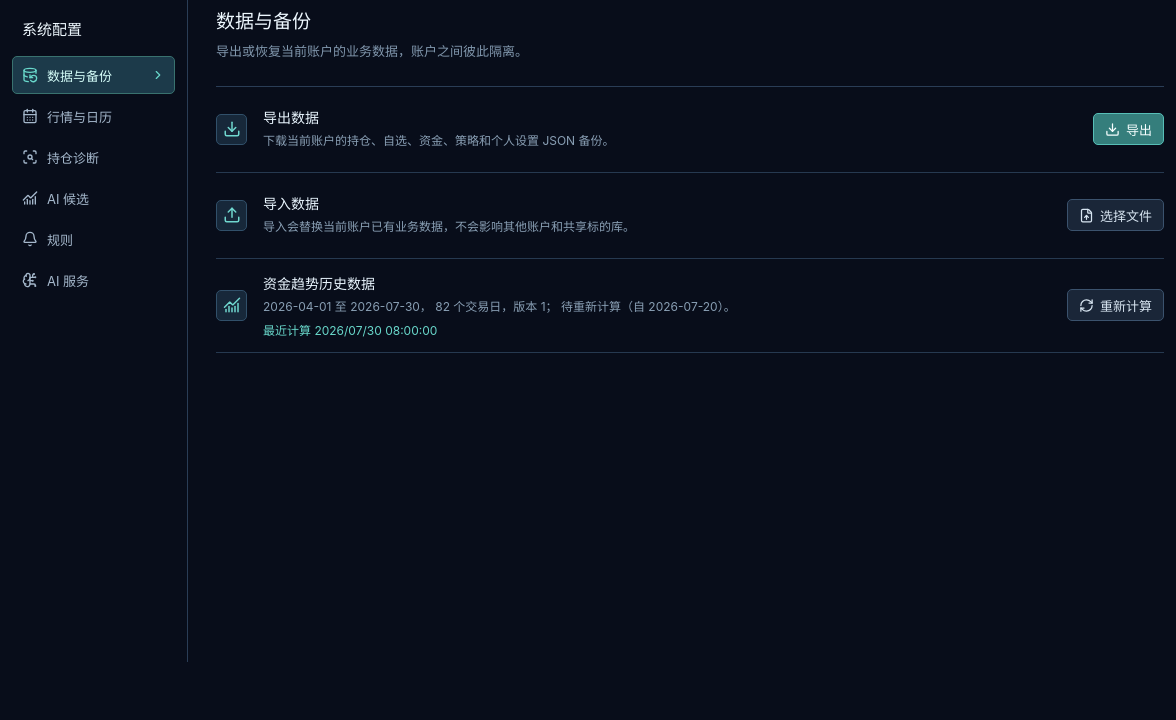
SystemConfigurationView › saves automatic rule scanning settings from the rules section
Click the button with class "system-configuration-nav-item" showing "规则": (94, 239) x1=12 y1=220 x2=175 y2=258
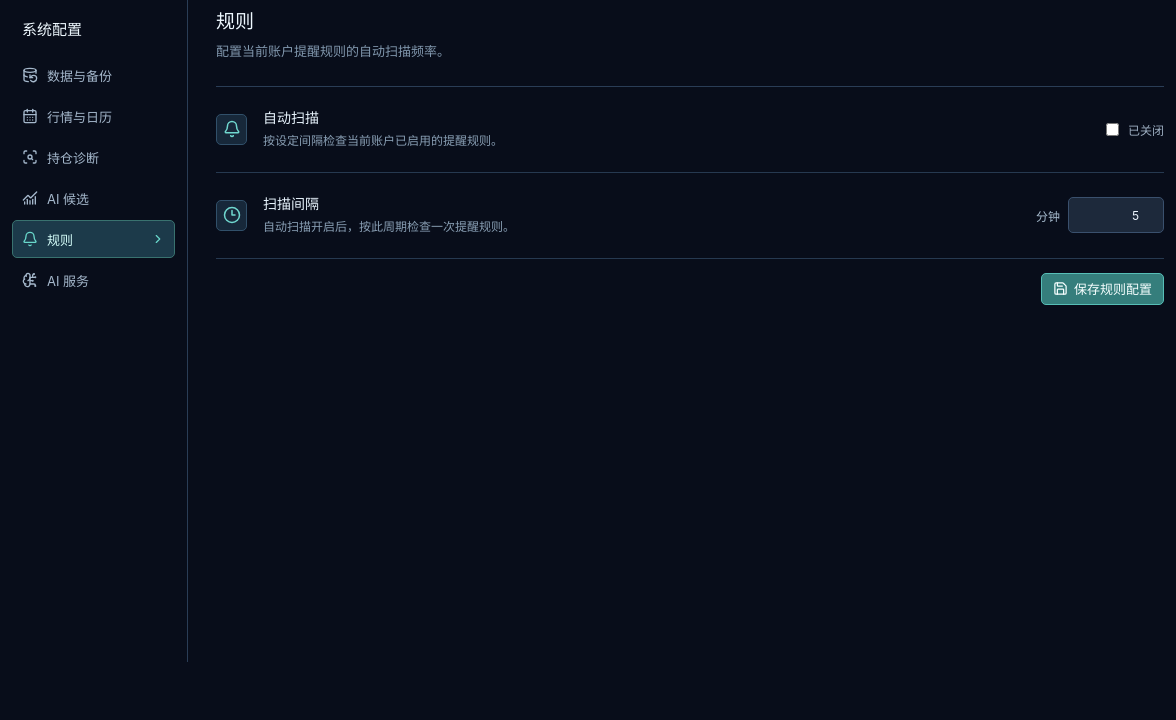
Click the checkbox named "自动扫描": (1112, 129) x1=1106 y1=123 x2=1119 y2=136
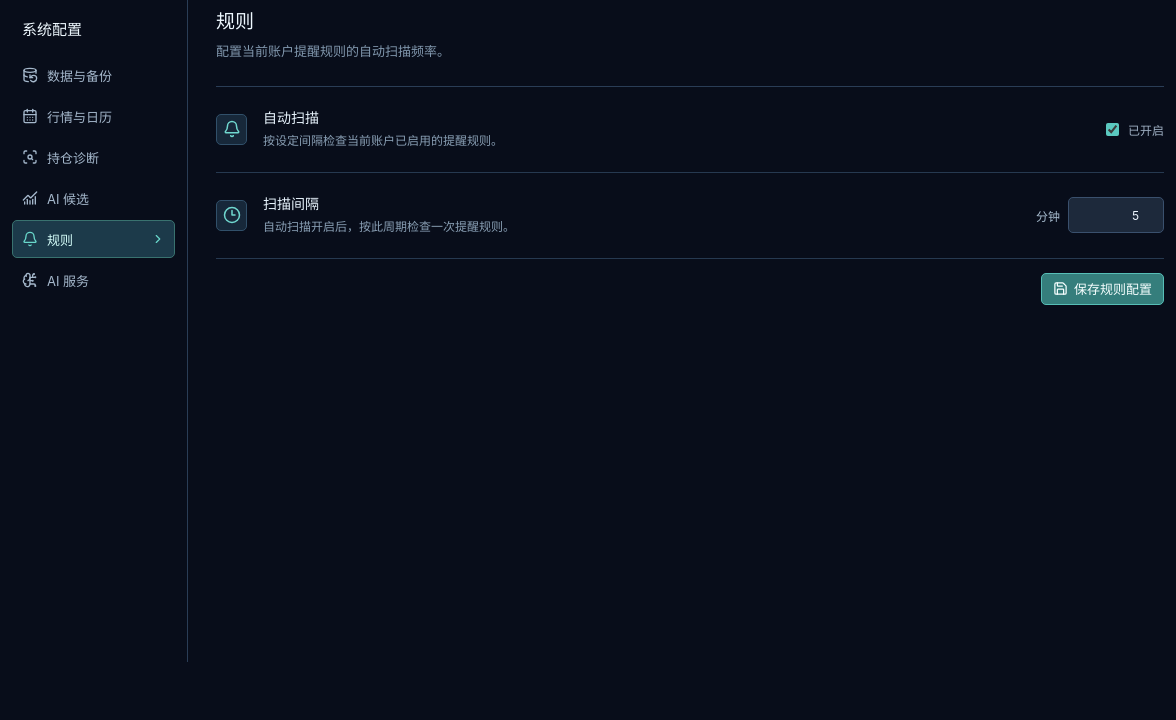
Replace the text in the number field named "扫描间隔" with "15": (1116, 215) x1=1068 y1=197 x2=1164 y2=233
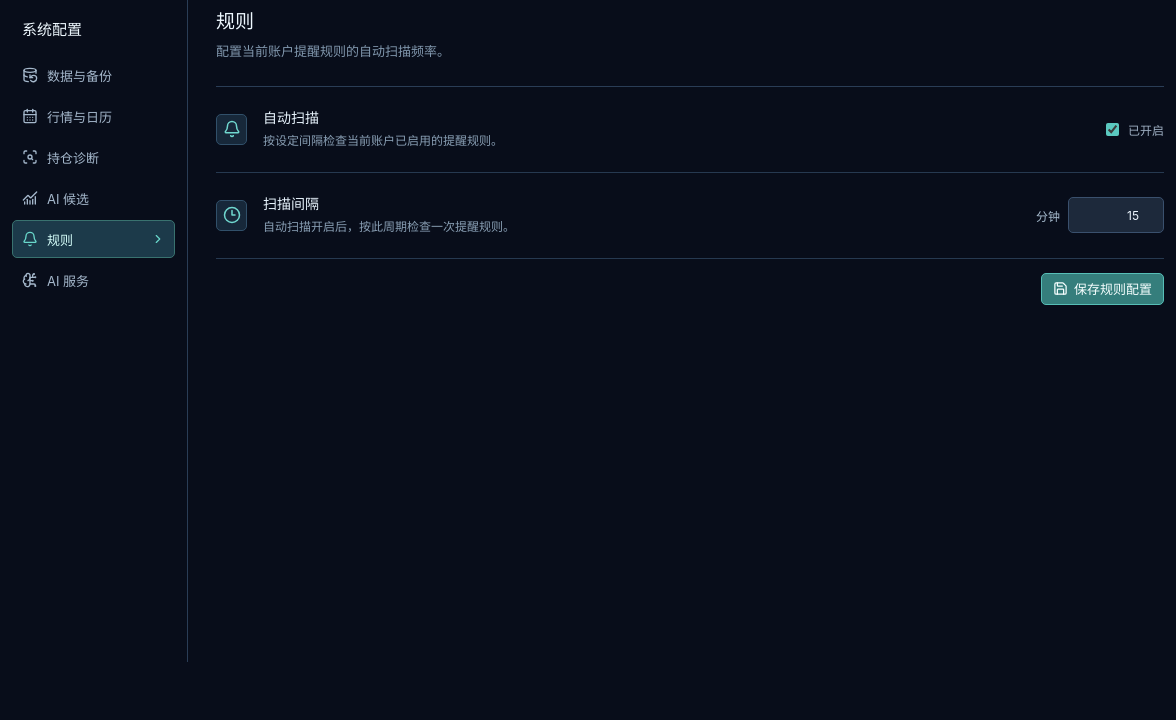
Submit the form named "规则配置", box x1=216 y1=86 x2=1164 y2=305
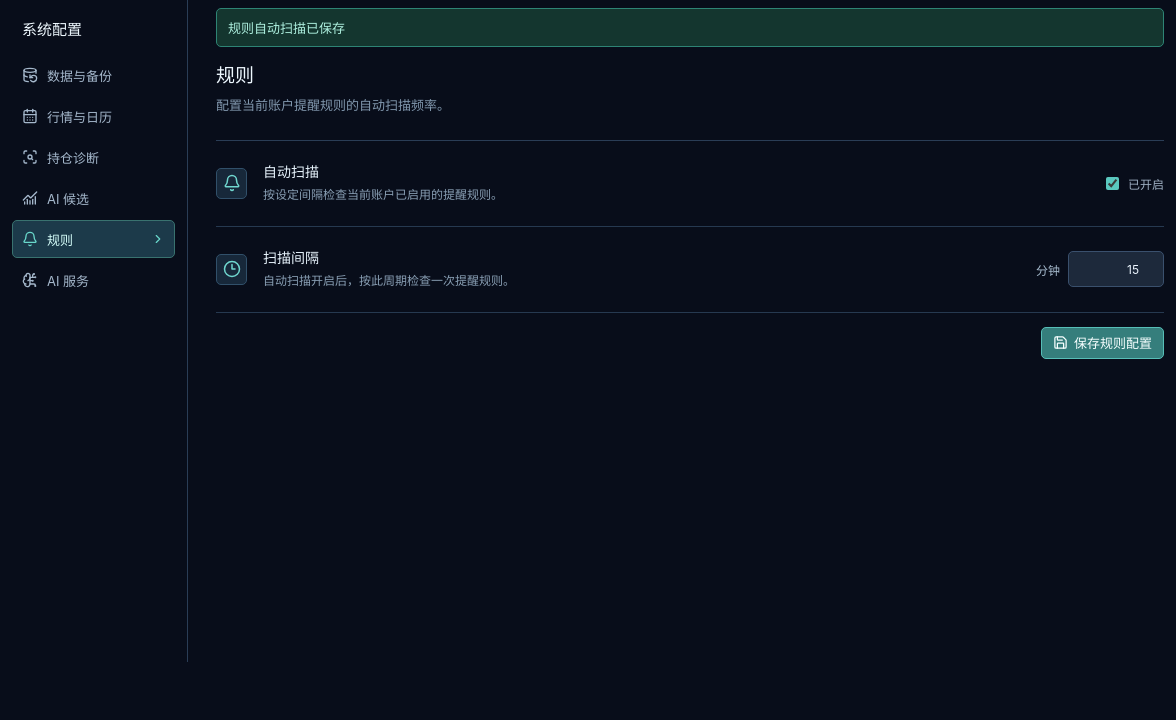
Now the text "规则自动扫描已保存" is shown, box x1=216 y1=8 x2=1164 y2=47
